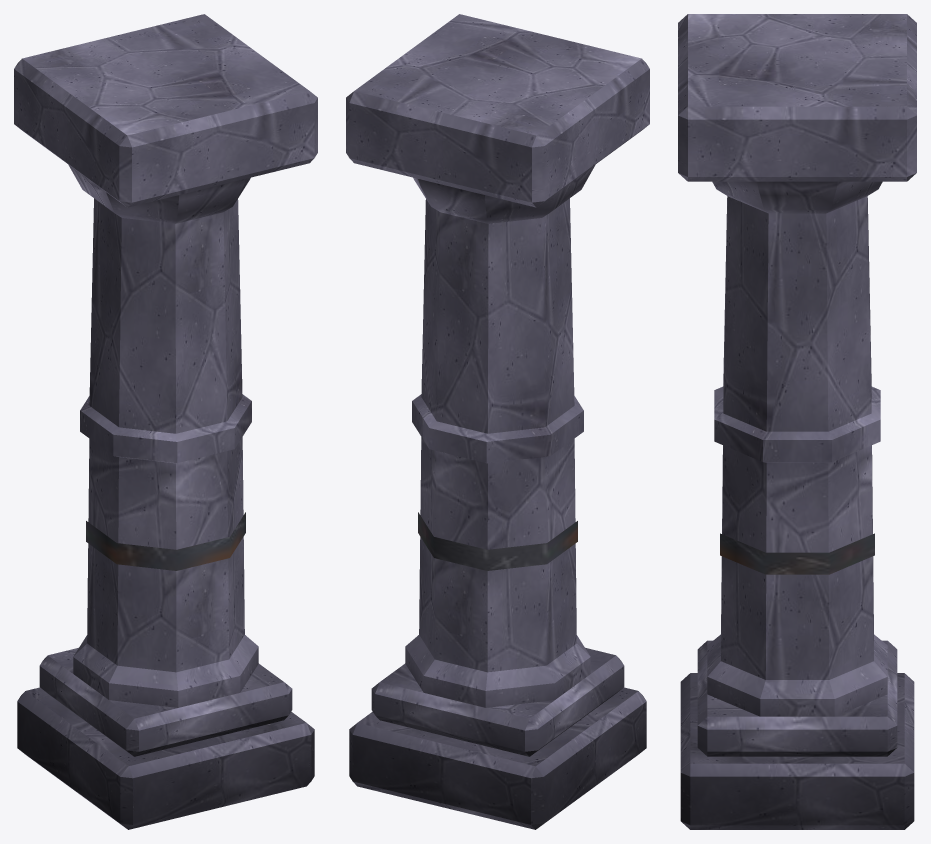
File: dng_pillar.glb
3 renders of one model, left to right at view 1: azimuth 30°, elevation 25°; view 2: azimuth 150°, elevation 25°; view 3: azimuth 270°, elevation 25°, orthographic. The views are drawn at different scales.
Parts seen in each view (by area): view 1: dng_pillar; view 2: dng_pillar; view 3: dng_pillar.
Part boxes in pixels (x1,y1,x2,y2): dng_pillar: (14,14,317,829); dng_pillar: (346,14,649,829); dng_pillar: (678,14,916,829).
Bounding box in the file's own units: 0.98 × 3.28 × 0.98.
Materials: 2 (2 with a texture image).
